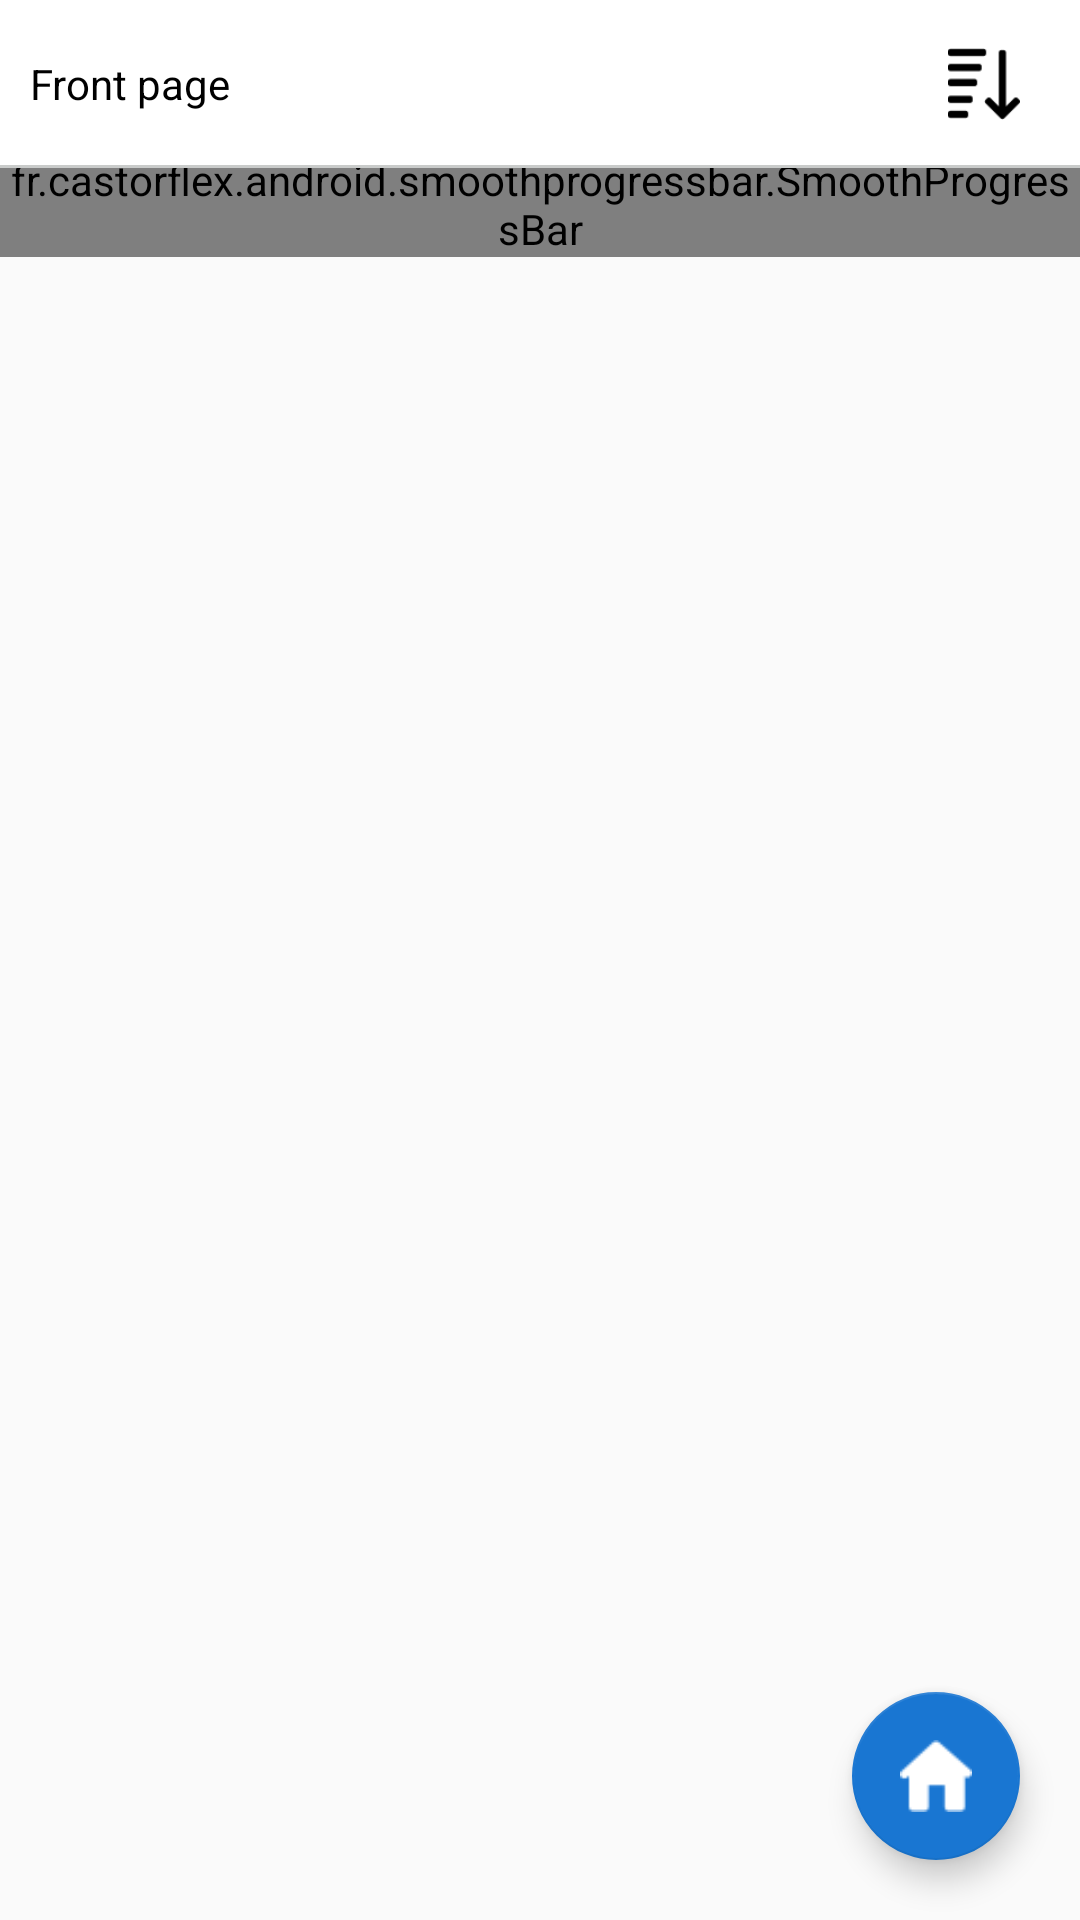

Icons on this 1080w x 1920h Android screen, each with its box as (x1, y1, x2, y2):
home: (852, 1692, 1020, 1860)
sort: (948, 48, 1020, 120)
